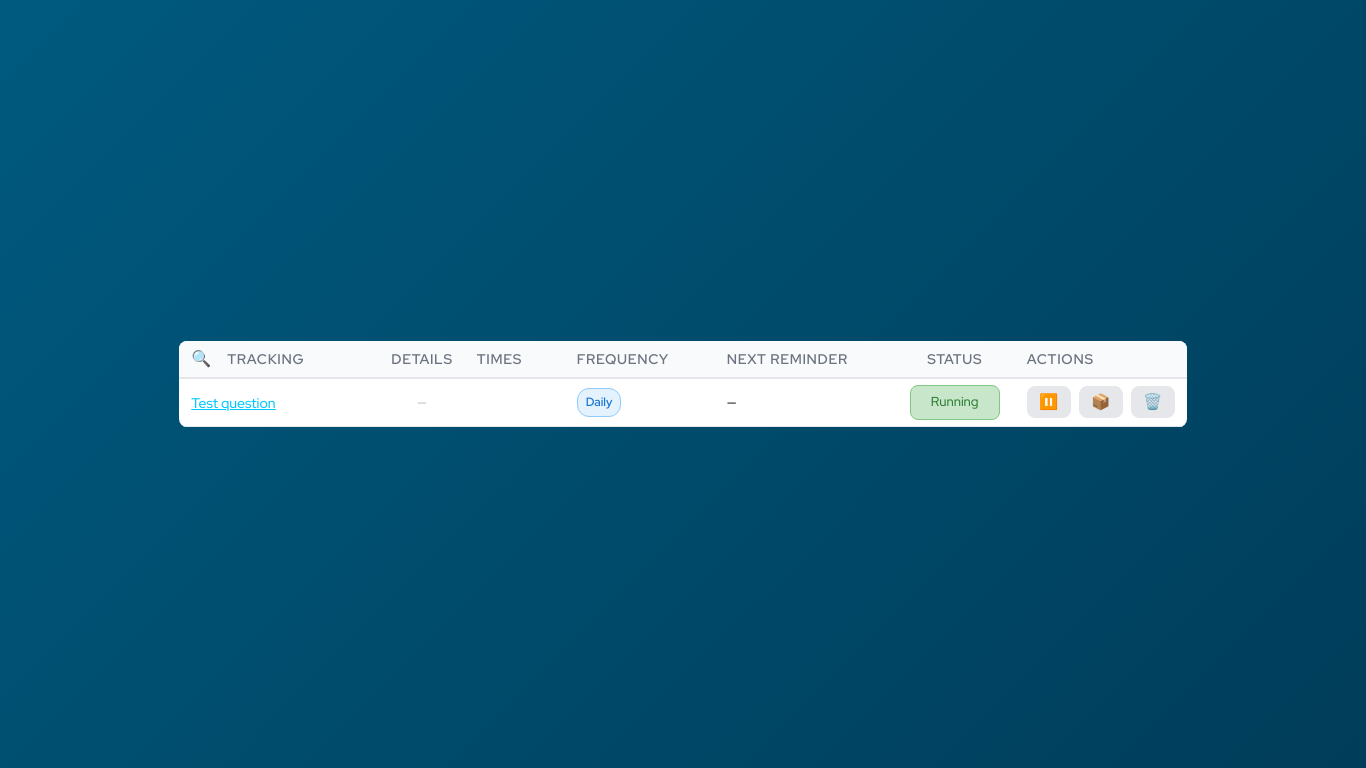
Test case: TrackingsList › Filtering › should show filter panel when toggle button is clicked
Click the button named "show filters".
click(201, 359)  # box [191,347,211,371]
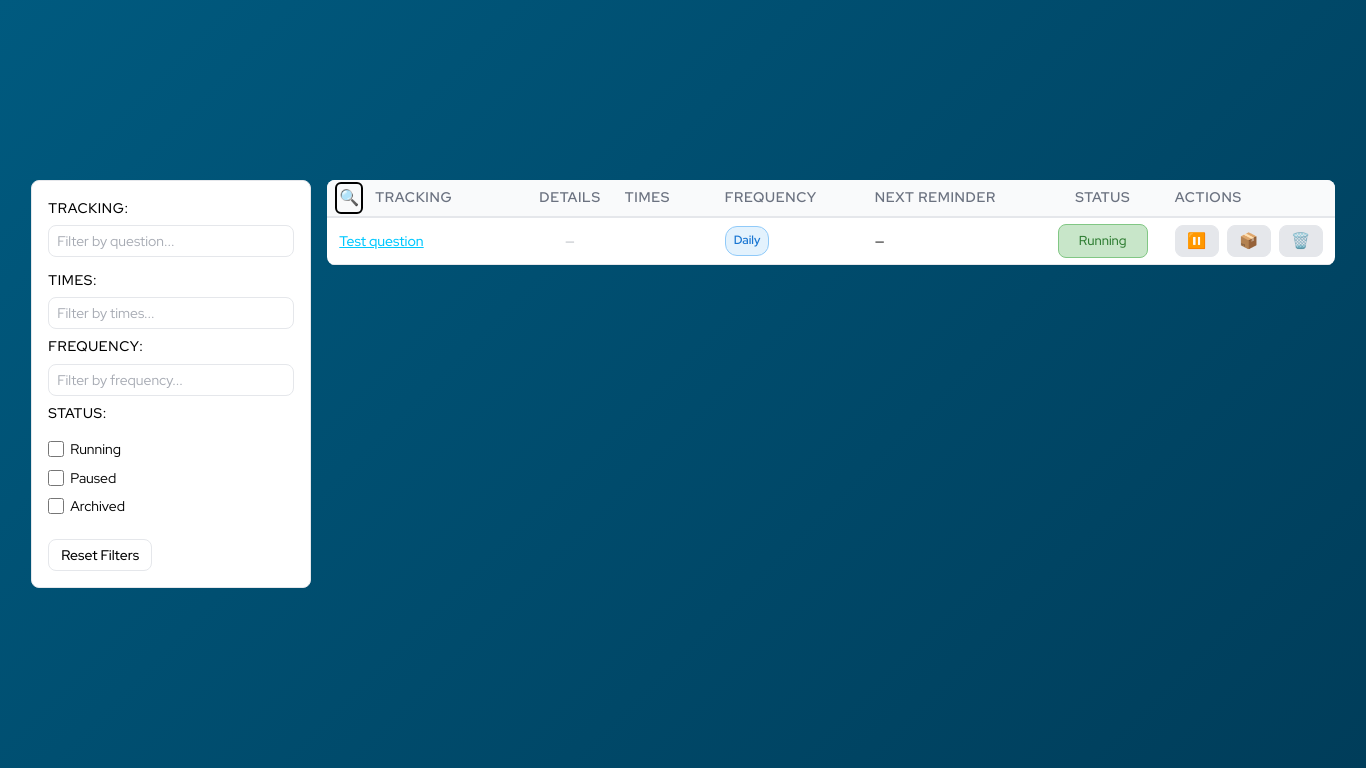
Expected: the field named "Filter by tracking" is shown, [48,225,294,257]
